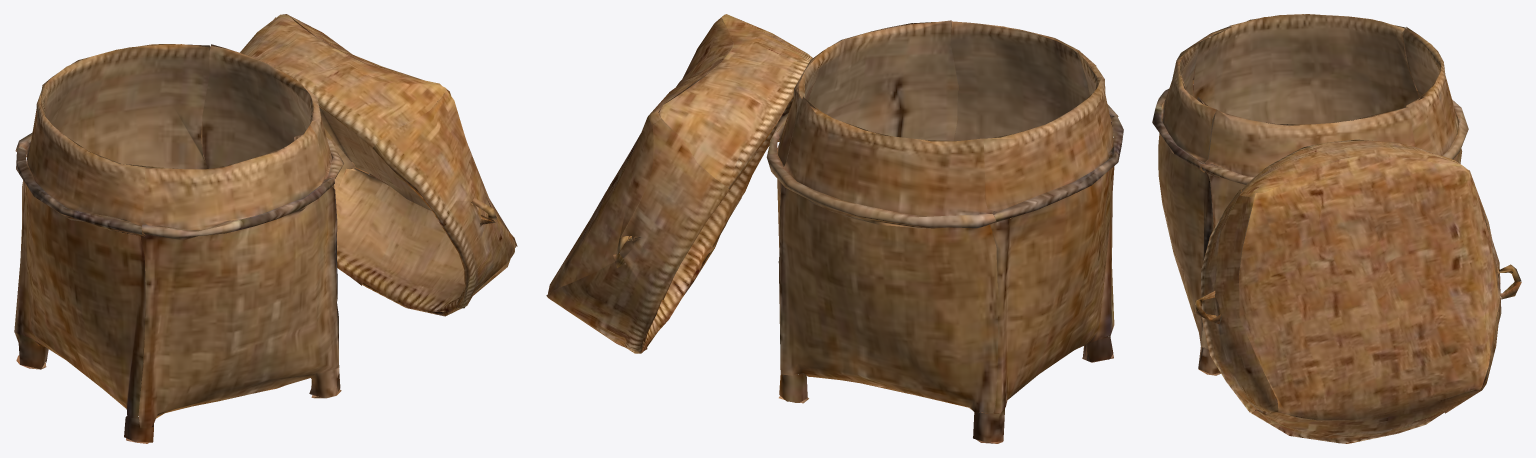
Rendered from wicker_basket_02.glb.
The picture shows the model from 3 angles, left to right: view 1: azimuth 30°, elevation 25°; view 2: azimuth 150°, elevation 25°; view 3: azimuth 270°, elevation 25°; orthographic projection. The views are drawn at different scales.
Visible parts, largest first — view 1: wicker_basket_02_base; view 2: wicker_basket_02_base; view 3: wicker_basket_02_base.
Boxes of the visible parts, x1,y1,x2,y2 form: wicker_basket_02_base: [14, 14, 517, 443]; wicker_basket_02_base: [546, 14, 1123, 443]; wicker_basket_02_base: [1152, 14, 1521, 443].
Bounding box in the file's own units: 0.3463 × 0.2013 × 0.2547.
1 material, 1 textured.
